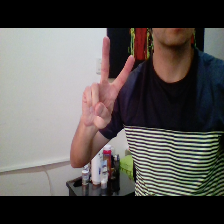KP: (74, 33, 139, 137)
